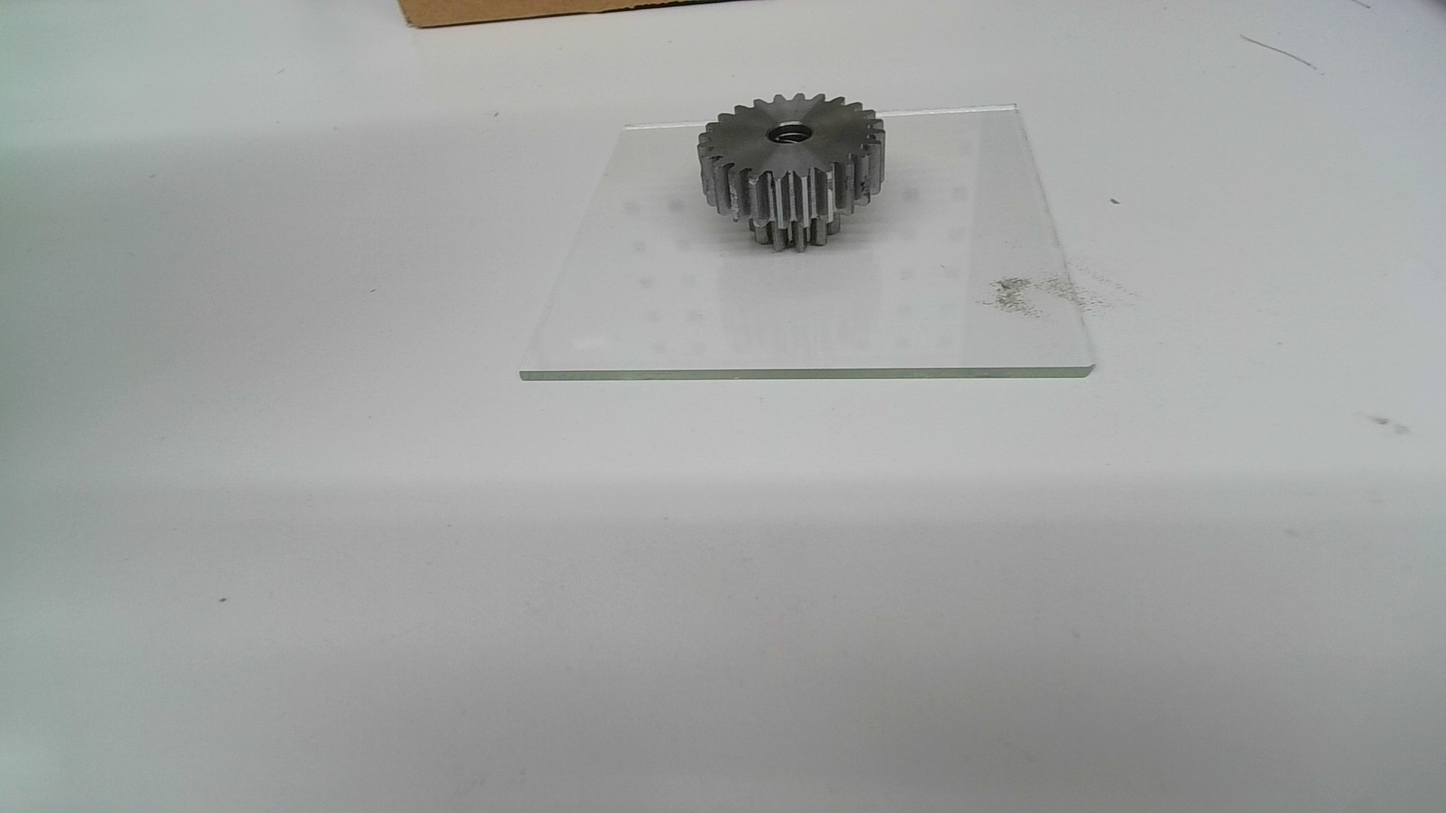gear: (695, 90, 887, 253)
